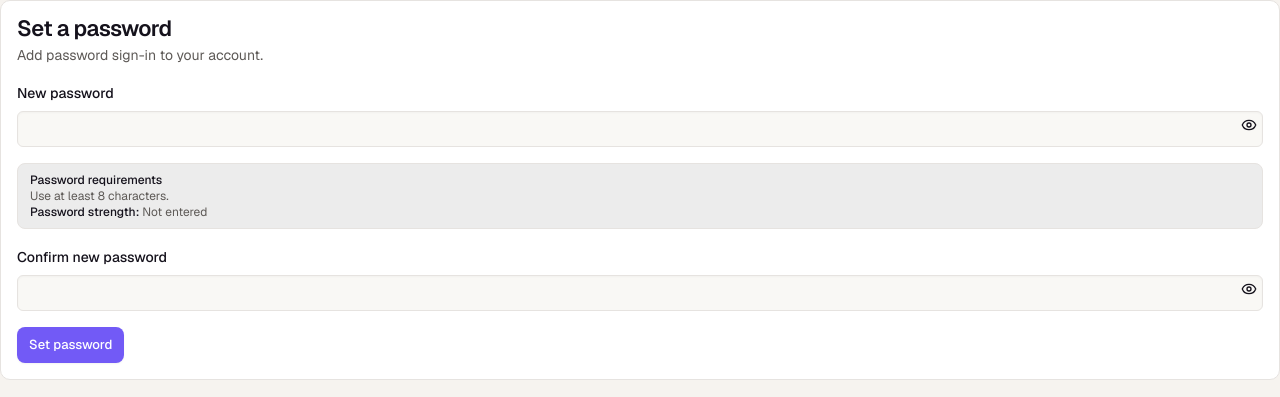
PasswordSetupForm › disables submit while pending
Type "new-secret" into the password field labelled "New password". click: (640, 129)
box: [17,111,1263,147]
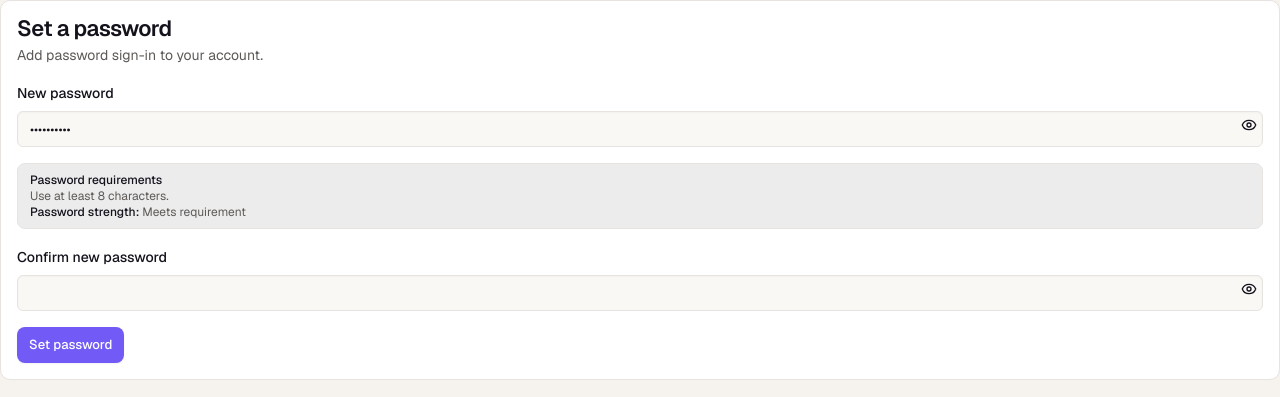
Type "new-secret" into the password field labelled "Confirm new password". click: (640, 293)
box: [17,275,1263,311]
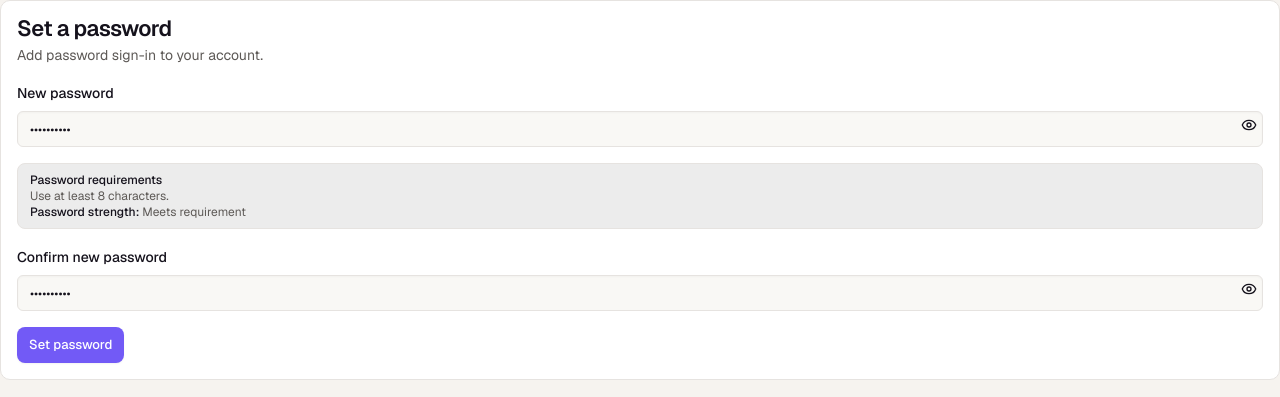
Click the button "Set password". click: (71, 345)
box: [17,327,124,363]
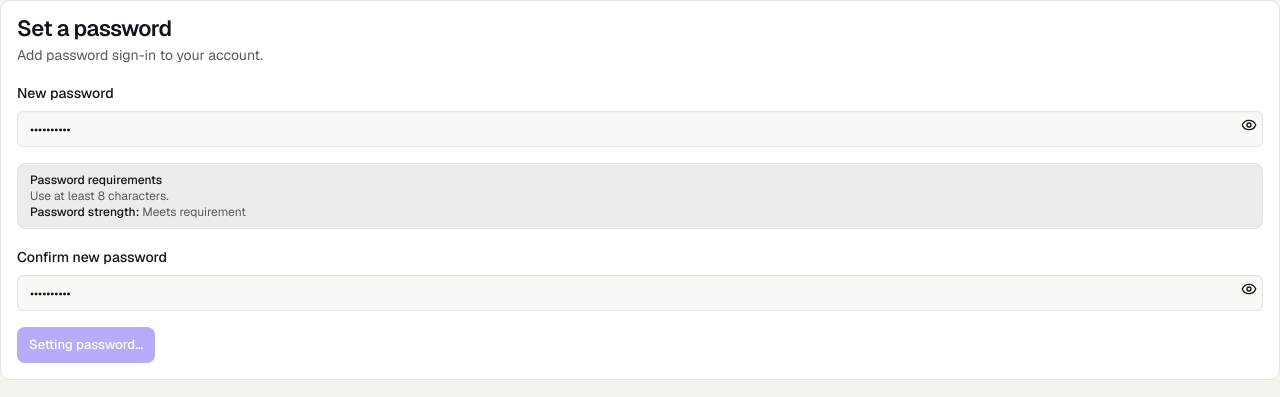
Now the button "Setting password…" is disabled, box [17,327,155,363]
